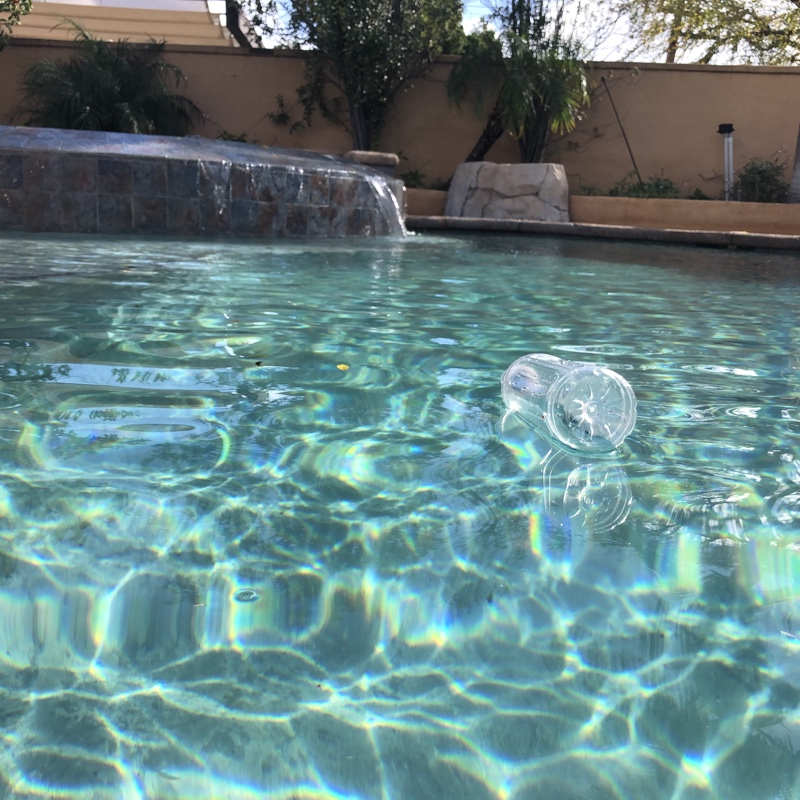Plastic Bottle: (496, 345, 643, 457)
